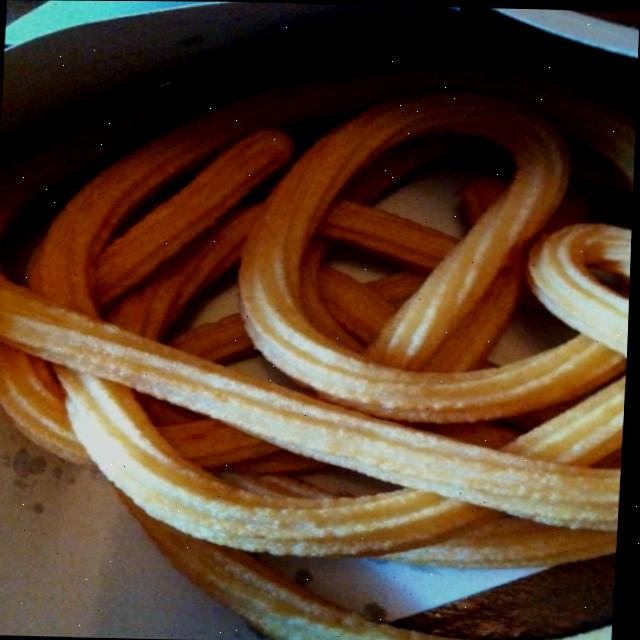炸货点心: (0, 26, 639, 613)
